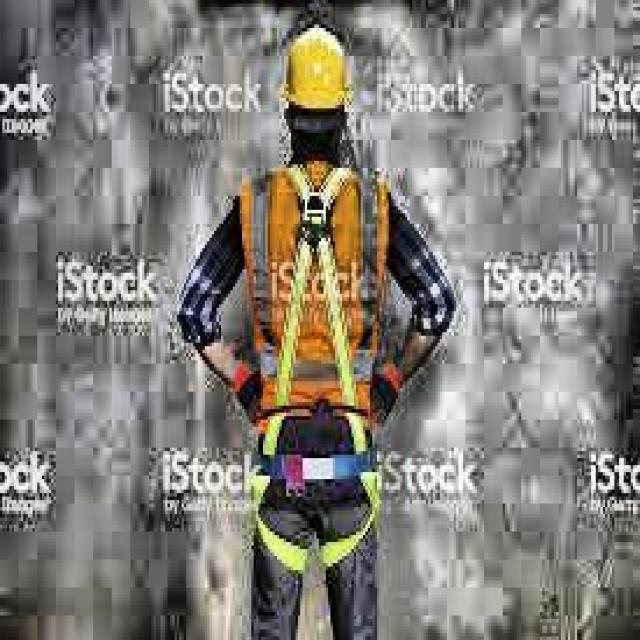belt: (249, 154, 384, 577)
